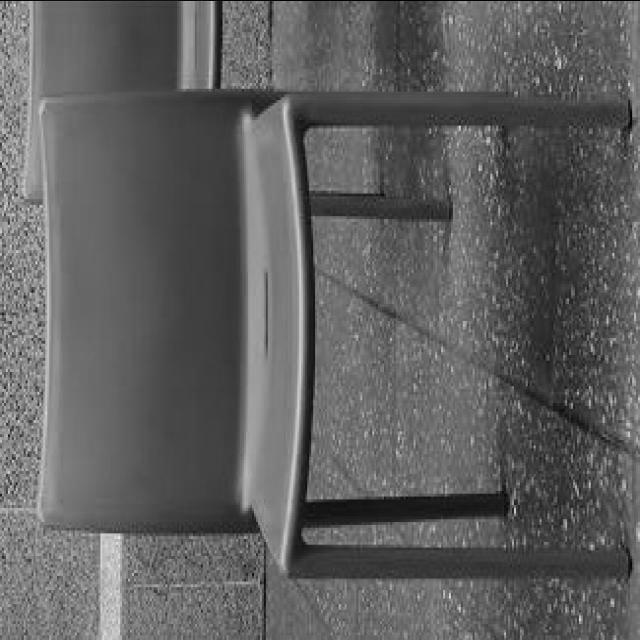chair: (30, 91, 632, 582)
